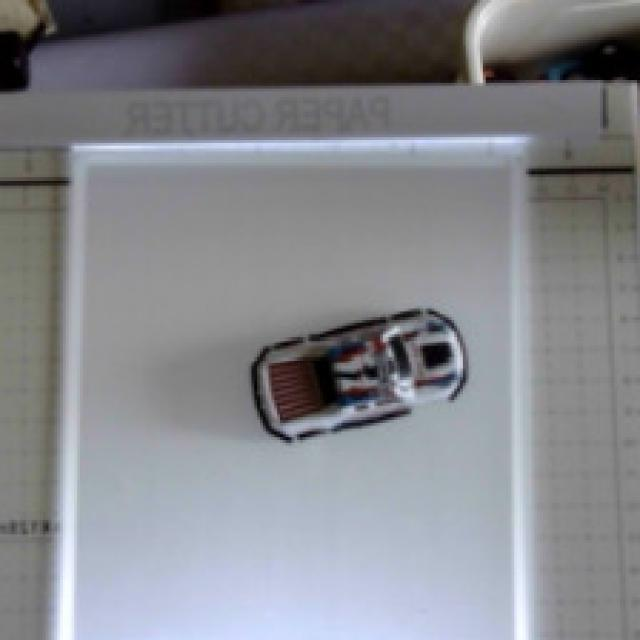Grey Car: (236, 282, 478, 476)
